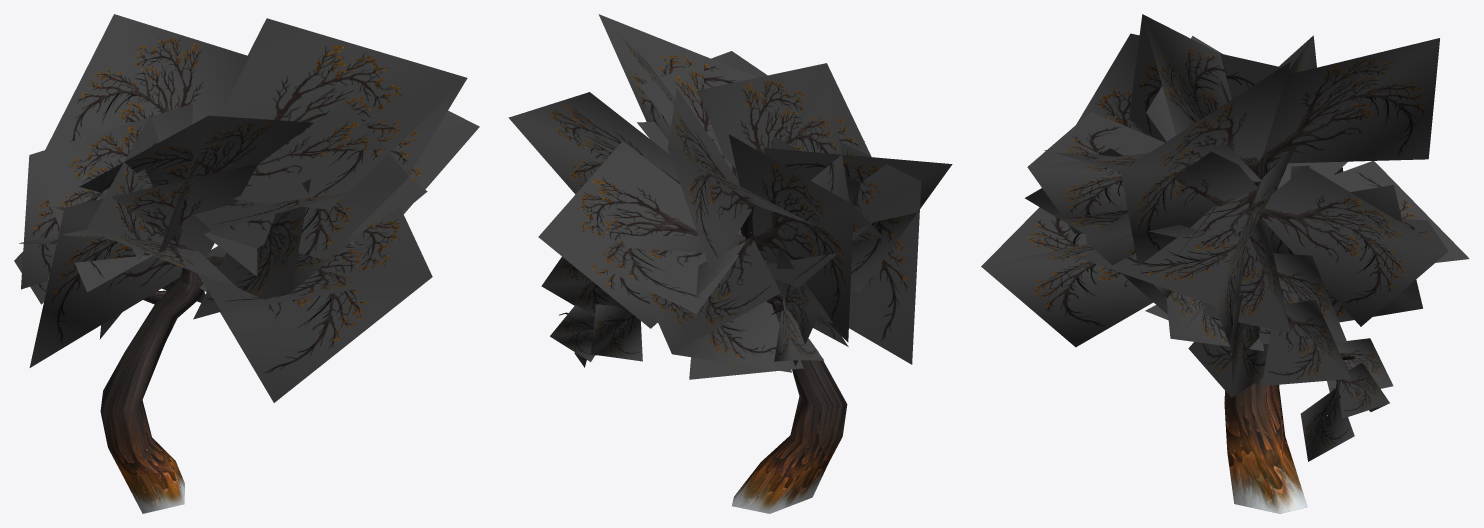
File: wintergrasp_tree_scourge_02.obj
The picture shows the model from 3 angles, left to right: view 1: azimuth 30°, elevation 25°; view 2: azimuth 150°, elevation 25°; view 3: azimuth 270°, elevation 25°; orthographic projection. The views are drawn at different scales.
Parts seen in each view (by area): view 1: Geoset1, Geoset0; view 2: Geoset1, Geoset0; view 3: Geoset1, Geoset0.
Boxes of the visible parts, left/top/right/bottom form: Geoset1: left=14, top=14, right=479, bottom=402; Geoset0: left=100, top=267, right=203, bottom=513; Geoset1: left=508, top=14, right=952, bottom=379; Geoset0: left=559, top=206, right=847, bottom=513; Geoset1: left=981, top=14, right=1469, bottom=461; Geoset0: left=1224, top=159, right=1356, bottom=513.
Size of the model in its own units: 132 by 127 by 112.
Materials: 2 (2 with a texture image).
